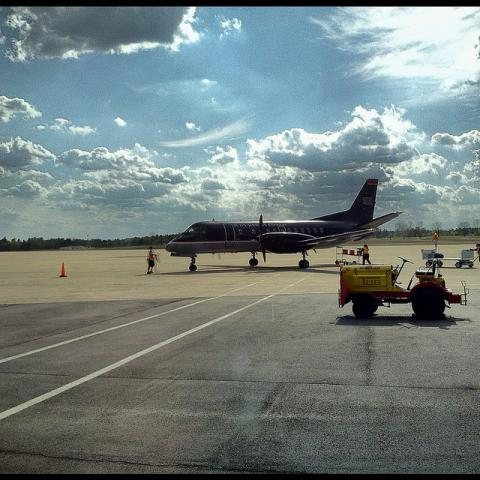truck: (338, 255, 467, 319)
